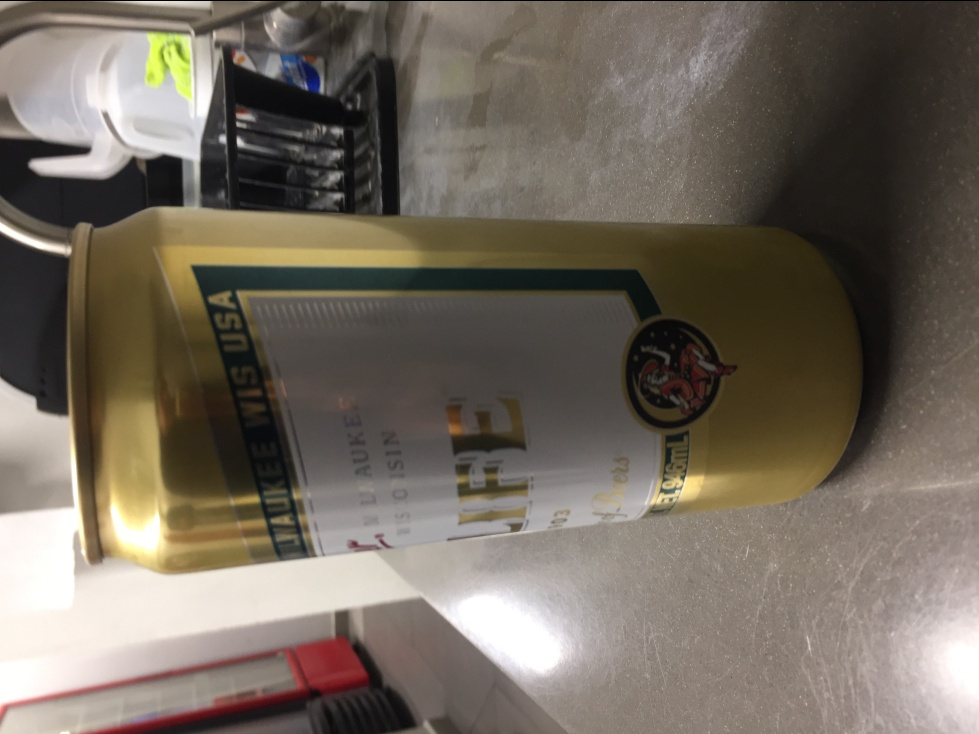miller: (61, 204, 868, 573)
